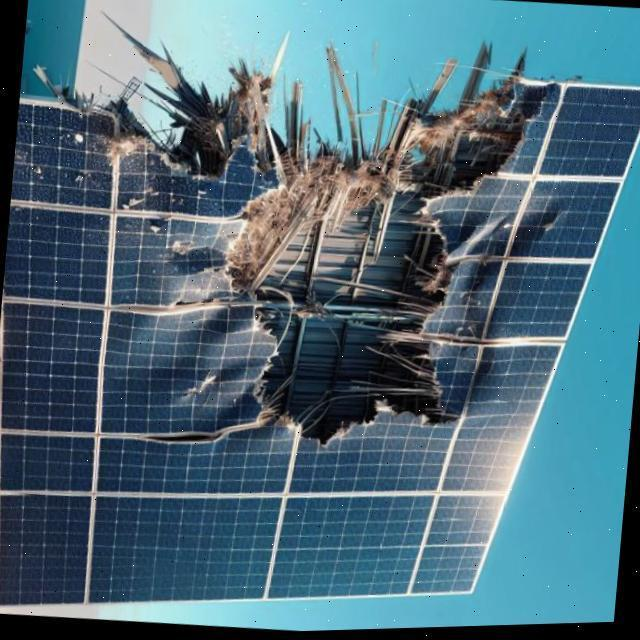Anomaly Solar Panel: (0, 85, 640, 606)
Structural Damage: (62, 83, 570, 461)
